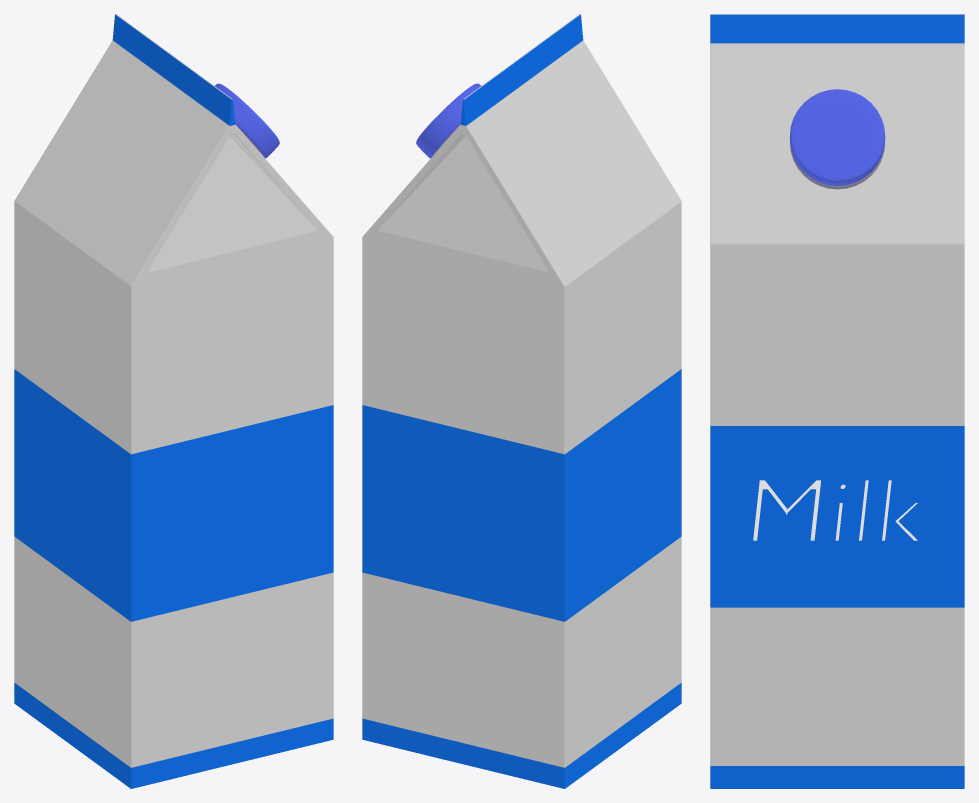
File: lowpoly_painted_milk_carton_-_realisticlow_poly.glb
3 renders of one model, left to right at view 1: azimuth 30°, elevation 25°; view 2: azimuth 150°, elevation 25°; view 3: azimuth 270°, elevation 25°, orthographic. The views are drawn at different scales.
Visible parts, largest first — view 1: Cube, Cylinder; view 2: Cube, Cylinder; view 3: Cube, Cylinder, Text.
Boxes of the visible parts, x1,y1,x2,y2 form: Cube: (14,14,333,788); Cylinder: (215,83,279,158); Cube: (362,14,681,788); Cylinder: (416,83,480,158); Cube: (710,14,964,788); Cylinder: (789,89,885,189); Text: (753,480,917,540).
Size of the model in its own units: 1.42 by 4.44 by 1.42.
